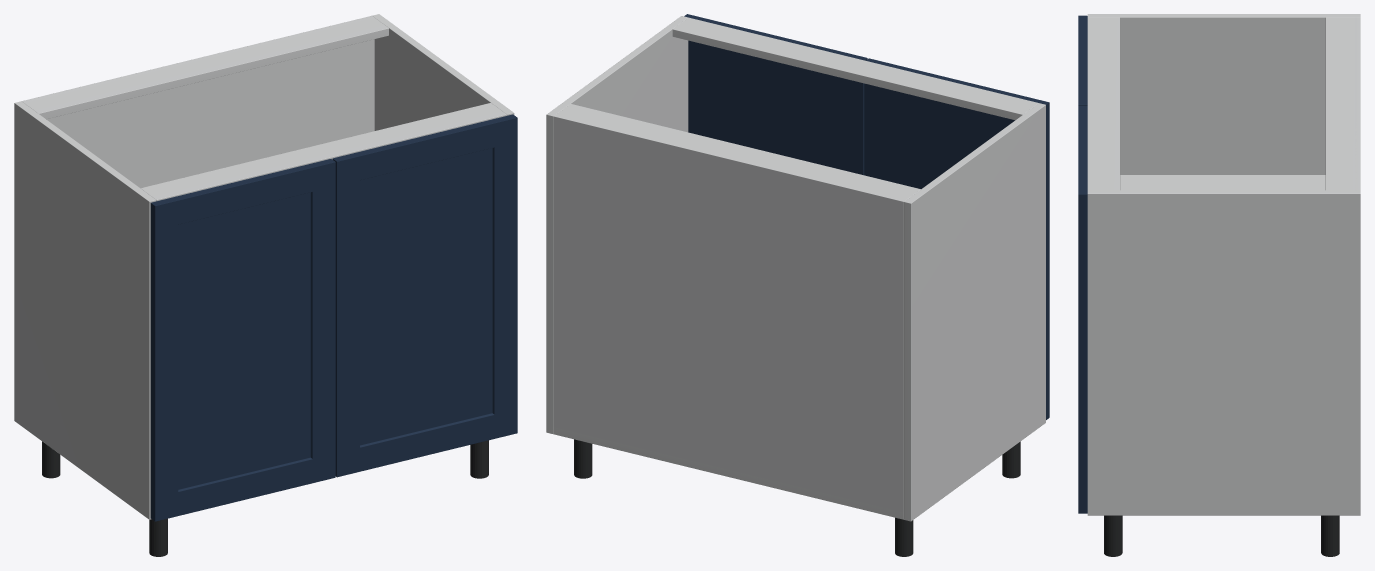
The model's file is oppein-pb-bss-b36fh.glb.
3 views of the same model, side by side, from view 1: azimuth 30°, elevation 25°; view 2: azimuth 150°, elevation 25°; view 3: azimuth 270°, elevation 25° (orthographic).
Parts seen in each view (by area): view 1: Door, Door.001, Cabinet side, Cabinet back, Top support rail, Cabinet side.001, Top support rail.001, Adjustable foot.001, Adjustable foot.003; view 2: Cabinet back, Cabinet side, Door.001, Door, Cabinet side.001, Top support rail.001, Top support rail, Cabinet bottom, Adjustable foot, Adjustable foot.002; view 3: Cabinet side.001, Cabinet side, Top support rail.001, Top support rail, Door.001, Adjustable shelf, Cabinet back, Door, Adjustable foot.003, Adjustable foot.002.
Boxes of the visible parts, x1=… form: Door: x1=150, y1=159, x2=335, y2=521; Door.001: x1=332, y1=114, x2=517, y2=477; Cabinet side: x1=14, y1=101, x2=156, y2=519; Cabinet back: x1=21, y1=15, x2=374, y2=188; Top support rail: x1=23, y1=17, x2=388, y2=119; Cabinet side.001: x1=372, y1=14, x2=514, y2=130; Top support rail.001: x1=141, y1=103, x2=506, y2=201; Adjustable foot.001: x1=149, y1=518, x2=167, y2=556; Adjustable foot.003: x1=470, y1=440, x2=488, y2=478; Cabinet back: x1=553, y1=114, x2=905, y2=519; Cabinet side: x1=904, y1=103, x2=1045, y2=521; Door.001: x1=684, y1=14, x2=867, y2=175; Door: x1=864, y1=58, x2=1049, y2=419; Cabinet side.001: x1=546, y1=16, x2=688, y2=434; Top support rail.001: x1=672, y1=17, x2=1038, y2=120; Top support rail: x1=556, y1=104, x2=920, y2=199; Cabinet bottom: x1=553, y1=427, x2=903, y2=518; Adjustable foot: x1=895, y1=517, x2=913, y2=556; Adjustable foot.002: x1=574, y1=439, x2=592, y2=478; Cabinet side.001: x1=1087, y1=190, x2=1360, y2=515; Cabinet side: x1=1087, y1=14, x2=1360, y2=174; Top support rail.001: x1=1087, y1=17, x2=1120, y2=190; Top support rail: x1=1325, y1=17, x2=1357, y2=190; Door.001: x1=1078, y1=105, x2=1087, y2=513; Adjustable shelf: x1=1120, y1=175, x2=1325, y2=190; Cabinet back: x1=1355, y1=17, x2=1360, y2=190; Door: x1=1078, y1=15, x2=1087, y2=105; Adjustable foot.003: x1=1104, y1=515, x2=1122, y2=556; Adjustable foot.002: x1=1321, y1=515, x2=1339, y2=556.
Size of the model in its own units: 0.9144 by 0.8763 by 0.6064.
